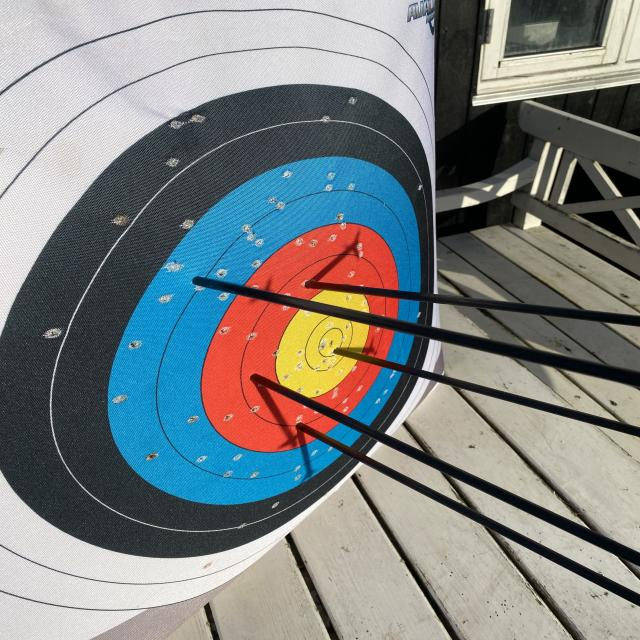Arrow_Blue: (172, 252, 246, 306)
Arrow_Red: (234, 361, 282, 396), (285, 269, 332, 298), (282, 415, 322, 445)
Arrow_Yellow: (322, 339, 356, 371)
